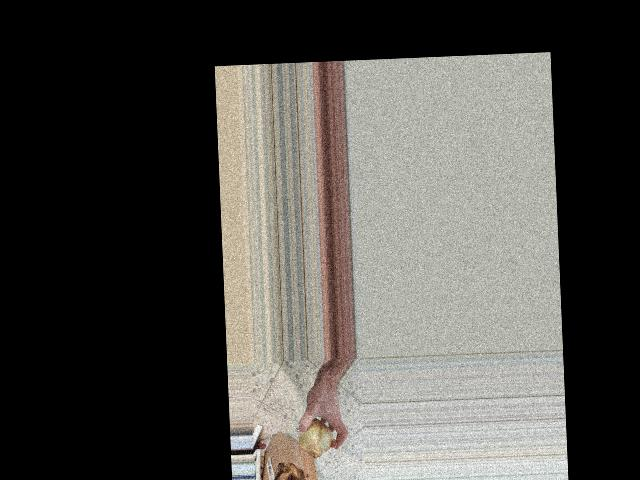onion: (296, 414, 337, 460)
